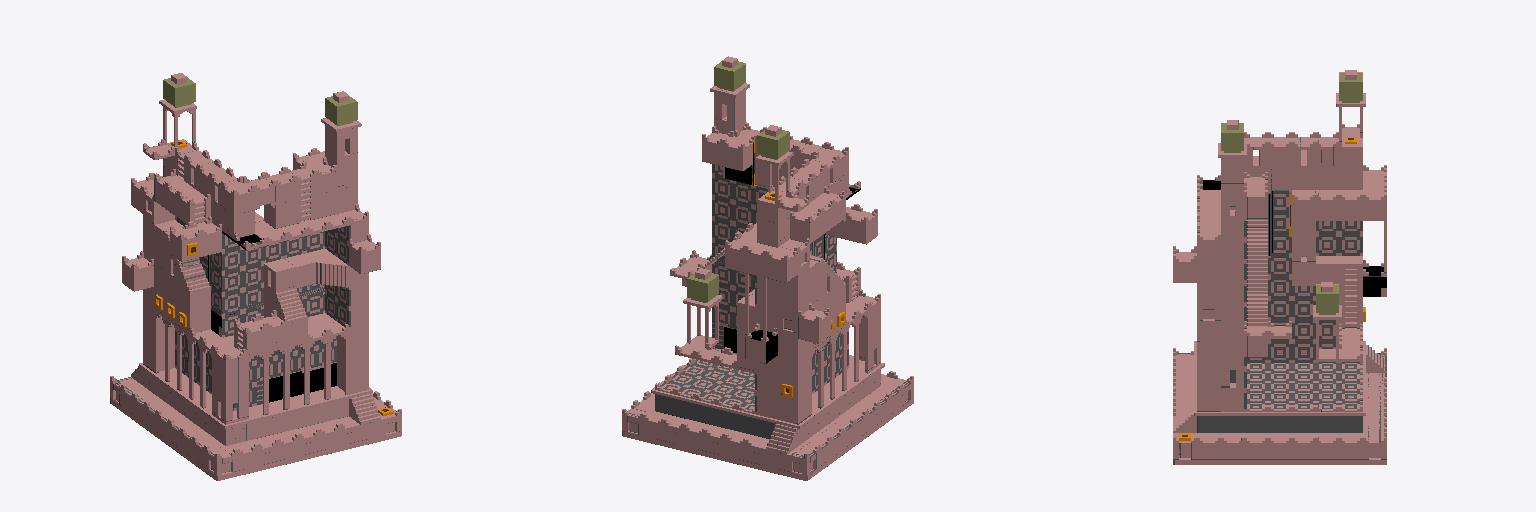
3 renders of one model, left to right at view 1: azimuth 30°, elevation 25°; view 2: azimuth 150°, elevation 25°; view 3: azimuth 270°, elevation 25°, orthographic.
Parts seen in each view (by area): view 1: untitled-3; view 2: untitled-3; view 3: untitled-3.
Part boxes in pixels (left/top/right/bottom): untitled-3: left=110, top=73, right=401, bottom=480; untitled-3: left=622, top=56, right=913, bottom=480; untitled-3: left=1173, top=70, right=1386, bottom=464.
Bounding box in the file's own units: 72 × 122 × 72.
Materials: 1 (1 with a texture image).